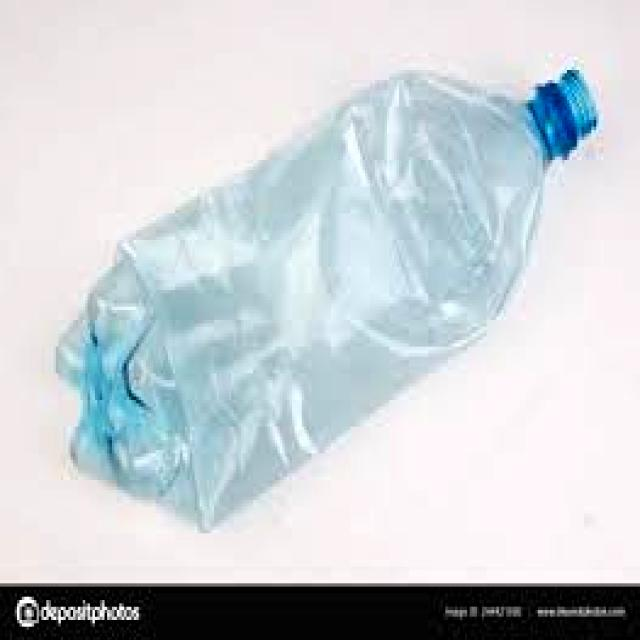plastic: (37, 52, 609, 554)
